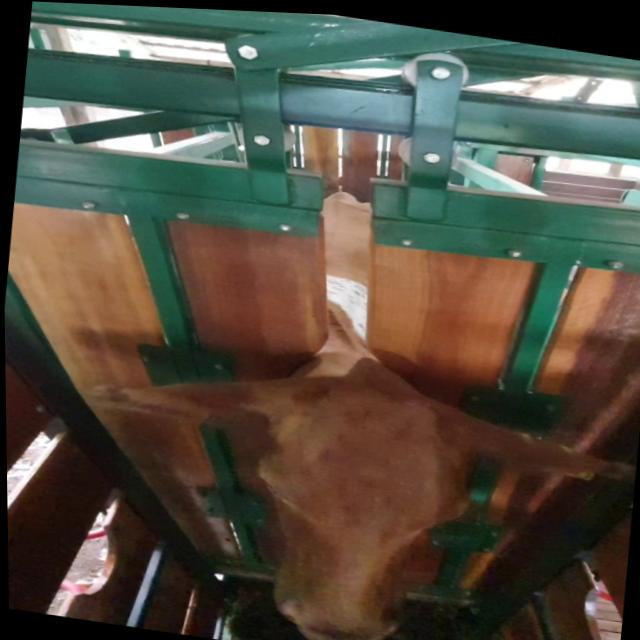cowFace: (243, 373, 484, 640)
